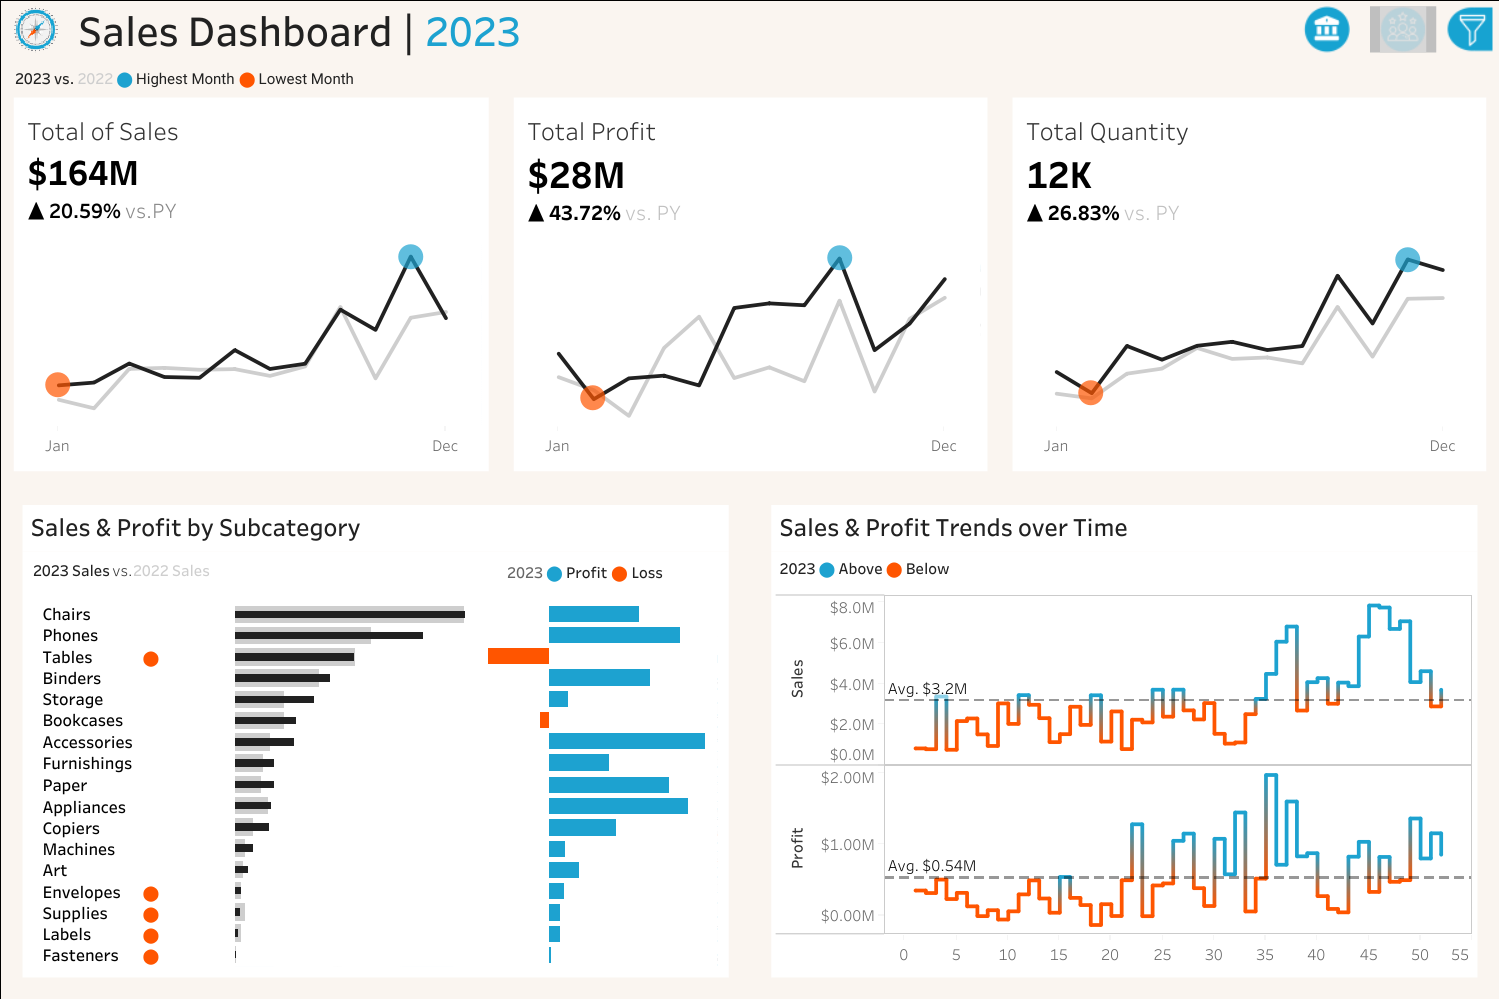

The page's visual inventory and layout, read from the dashboard file:
{"tool":"tableau","page":{"name":"Sales Dashboard","canvas":[1200,800],"ordinal":0},"visuals":[{"type":"image","param":"C:/Users/shaha/Downloads/Dashboard Icons/Icon - Logo.png","box":[1,1,55,45]},{"type":"text","box":[56,1,975,45]},{"type":"dashboard-object","box":[1031,1,61,45]},{"type":"dashboard-object","box":[1092,1,61,45]},{"type":"dashboard-object","box":[1153,1,46,45]},{"type":"worksheet","title":"Legend KPI","mark":"Automatic","box":[1,46,1198,32]},{"type":"text","box":[982,62,206,40]},{"type":"worksheet","title":"KPI Sales","mark":"Automatic","rows":["Calculation_569142470106120197"],"cols":["Order Date"],"box":[1,78,400,309]},{"type":"worksheet","title":"KPI Profit","mark":"Line","rows":["Calculation_569142470477590550"],"cols":["Order Date"],"box":[401,78,399,309]},{"type":"worksheet","title":"KPI Quantity","mark":"Automatic","rows":["Min/Max Profit (copy)_569142470491959324"],"cols":["Order Date"],"box":[800,78,399,309]},{"type":"parameter","param":"[Parameters].[Parameter 1]","box":[982,102,206,56]},{"type":"blank","box":[982,158,206,60]},{"type":"text","box":[982,218,206,33]},{"type":"filter","title":"KPI Sales","param":"[federated.0jy0jwi16i2ve31bw9wu50vwc9wh].[none:Category:nk]","box":[982,251,206,61]},{"type":"filter","title":"KPI Sales","param":"[federated.0jy0jwi16i2ve31bw9wu50vwc9wh].[none:Sub-Category:nk]","box":[982,312,206,61]},{"type":"blank","box":[982,373,206,60]},{"type":"text","box":[18,404,565,37.3]},{"type":"text","box":[617,404,565,37.3]},{"type":"text","box":[982,433,206,33]},{"type":"worksheet","title":"Legend Subcategory","mark":"Automatic","box":[18,441.3,381,30.8]},{"type":"text","box":[399,441.3,184,30.8]},{"type":"text","box":[617,441.3,565,29]},{"type":"filter","title":"KPI Sales","param":"[federated.0jy0jwi16i2ve31bw9wu50vwc9wh].[none:Region:nk]","box":[982,466,206,61]},{"type":"worksheet","title":"Subcategory Comparison","mark":"Bar","rows":["Sub-Category","Calculation_569142470825984036"],"cols":["CY Sales (copy)_569142469752238082","Calculation_569142469751947265","Calculation_569142470145306642"],"box":[18,472.1,565,309.8]},{"type":"worksheet","title":"Weekly Trends","mark":"Automatic","rows":["Calculation_569142469751947265","Calculation_569142470145306642"],"cols":["Order Date"],"box":[617,472.1,565,309.9]},{"type":"filter","title":"KPI Sales","param":"[federated.0jy0jwi16i2ve31bw9wu50vwc9wh].[none:State:nk]","box":[982,527,206,61]},{"type":"filter","title":"KPI Sales","param":"[federated.0jy0jwi16i2ve31bw9wu50vwc9wh].[none:City:nk]","box":[982,588,206,61]}]}

Visuals, with their boxes in screenshot pixels (x1, y1, x2, y2), scaled from the page's 1200x800 canvas onto the 1499x999 screenshot:
image: {"x1": 1, "y1": 1, "x2": 70, "y2": 57}
text: {"x1": 70, "y1": 1, "x2": 1288, "y2": 57}
dashboard-object: {"x1": 1288, "y1": 1, "x2": 1364, "y2": 57}
dashboard-object: {"x1": 1364, "y1": 1, "x2": 1440, "y2": 57}
dashboard-object: {"x1": 1440, "y1": 1, "x2": 1498, "y2": 57}
"Legend KPI" worksheet: {"x1": 1, "y1": 57, "x2": 1498, "y2": 97}
text: {"x1": 1227, "y1": 77, "x2": 1484, "y2": 127}
"KPI Sales" worksheet: {"x1": 1, "y1": 97, "x2": 501, "y2": 483}
"KPI Profit" worksheet (Line marks): {"x1": 501, "y1": 97, "x2": 999, "y2": 483}
"KPI Quantity" worksheet: {"x1": 999, "y1": 97, "x2": 1498, "y2": 483}
parameter: {"x1": 1227, "y1": 127, "x2": 1484, "y2": 197}
blank: {"x1": 1227, "y1": 197, "x2": 1484, "y2": 272}
text: {"x1": 1227, "y1": 272, "x2": 1484, "y2": 313}
"KPI Sales" filter: {"x1": 1227, "y1": 313, "x2": 1484, "y2": 390}
"KPI Sales" filter: {"x1": 1227, "y1": 390, "x2": 1484, "y2": 466}
blank: {"x1": 1227, "y1": 466, "x2": 1484, "y2": 541}
text: {"x1": 22, "y1": 504, "x2": 728, "y2": 551}
text: {"x1": 771, "y1": 504, "x2": 1477, "y2": 551}
text: {"x1": 1227, "y1": 541, "x2": 1484, "y2": 582}
"Legend Subcategory" worksheet: {"x1": 22, "y1": 551, "x2": 498, "y2": 590}
text: {"x1": 498, "y1": 551, "x2": 728, "y2": 590}
text: {"x1": 771, "y1": 551, "x2": 1477, "y2": 587}
"KPI Sales" filter: {"x1": 1227, "y1": 582, "x2": 1484, "y2": 658}
"Subcategory Comparison" worksheet (Bar marks): {"x1": 22, "y1": 590, "x2": 728, "y2": 976}
"Weekly Trends" worksheet: {"x1": 771, "y1": 590, "x2": 1477, "y2": 977}
"KPI Sales" filter: {"x1": 1227, "y1": 658, "x2": 1484, "y2": 734}
"KPI Sales" filter: {"x1": 1227, "y1": 734, "x2": 1484, "y2": 810}
